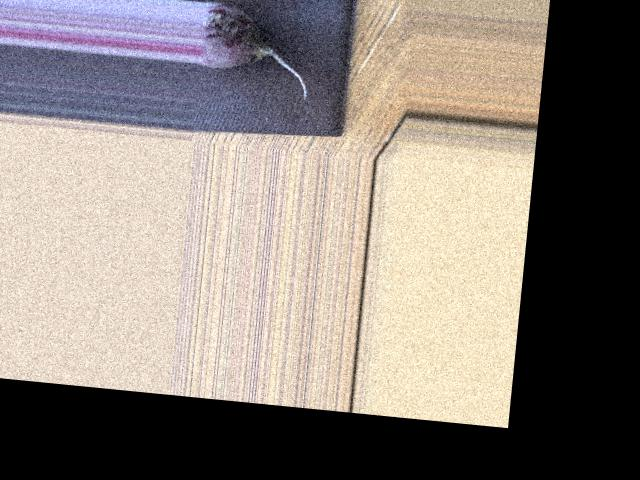beet: (196, 1, 315, 99)
